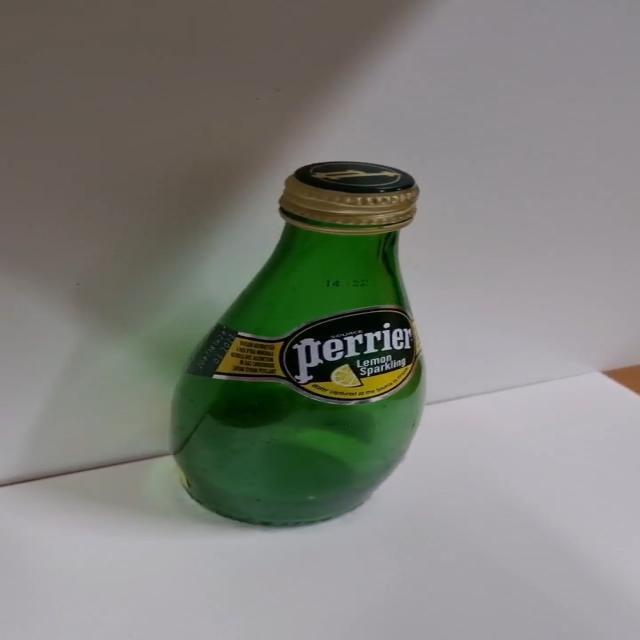Glass: (169, 162, 426, 531)
